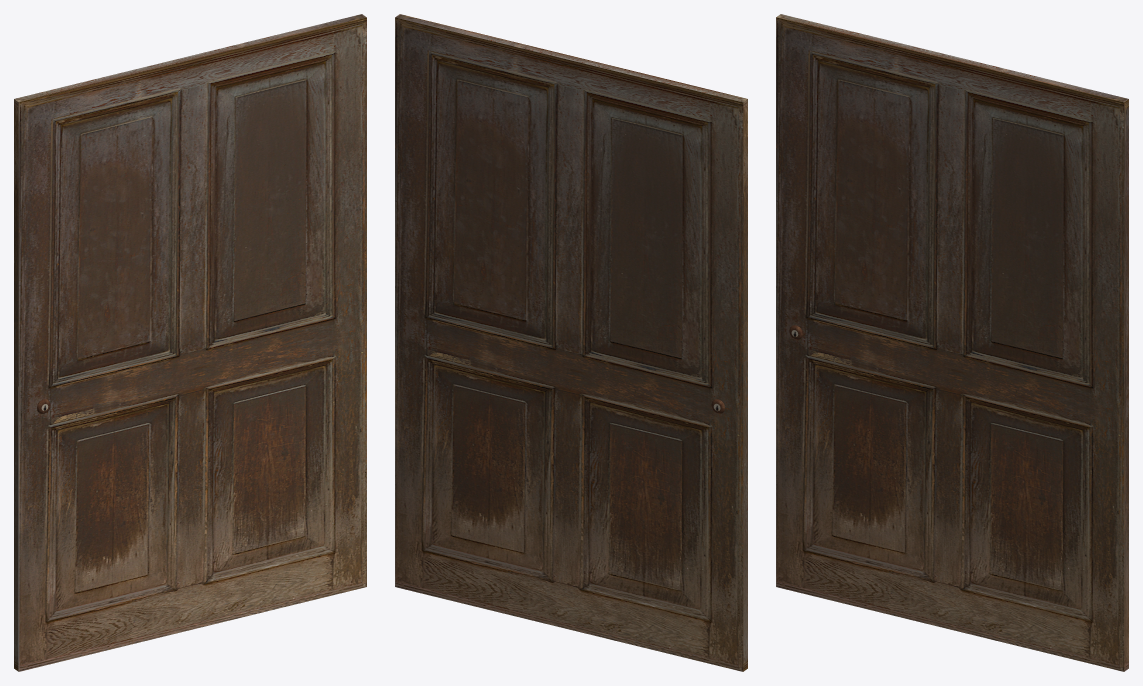
File: door_granny.glb
3 views of the same model, side by side, from view 1: azimuth 30°, elevation 25°; view 2: azimuth 150°, elevation 25°; view 3: azimuth 330°, elevation 25° (orthographic).
Parts seen in each view (by area): view 1: Object_10; view 2: Object_10; view 3: Object_10.
Part boxes in pixels (<box>): Object_10: <box>14,14,366,671</box>; Object_10: <box>395,14,747,671</box>; Object_10: <box>776,14,1128,671</box>.
Size of the model in its own units: 14.73 by 23.03 by 0.8757.
1 material, 1 textured.
